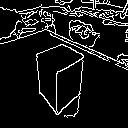cube: (22, 40, 90, 115)
